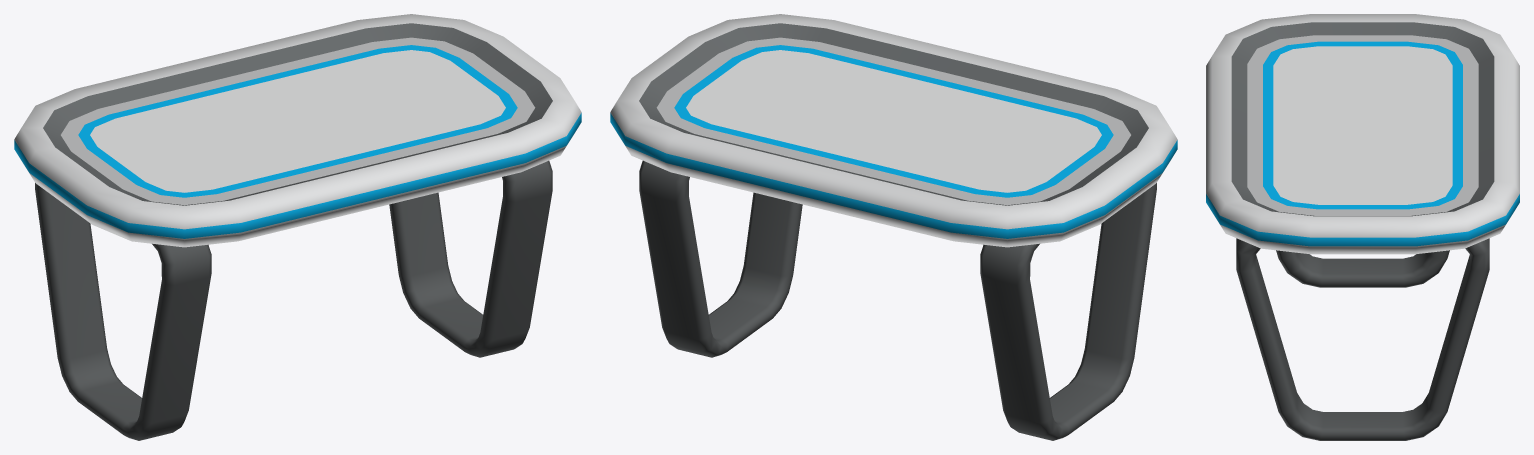
Rendered from Desk_019.fbx.
3 views of the same model, side by side, from view 1: azimuth 30°, elevation 25°; view 2: azimuth 150°, elevation 25°; view 3: azimuth 270°, elevation 25° (orthographic). The views are drawn at different scales.
Parts seen in each view (by area): view 1: Desk_019; view 2: Desk_019; view 3: Desk_019.
Part boxes in pixels (x1,y1,x2,y2): Desk_019: [14, 14, 581, 440]; Desk_019: [610, 14, 1177, 440]; Desk_019: [1206, 14, 1519, 440].
Size of the model in its own units: 164 by 101 by 84.83.
